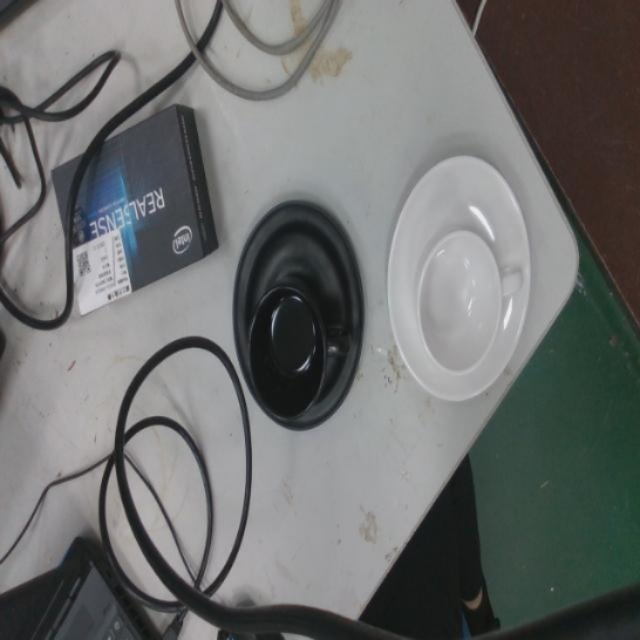black: (228, 195, 366, 437)
white: (385, 150, 534, 406)
